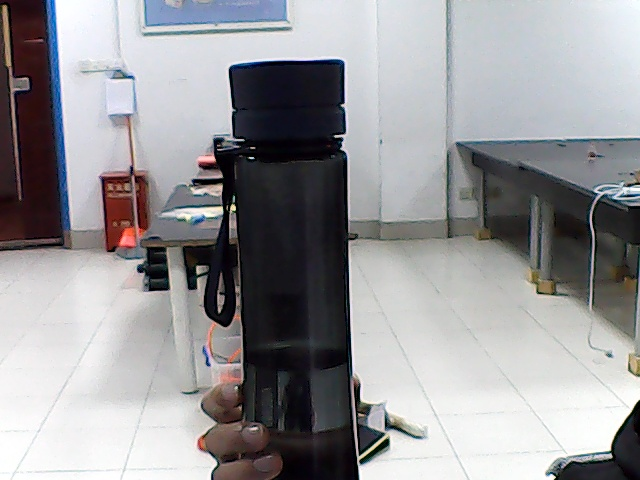cup: (249, 93, 327, 404)
